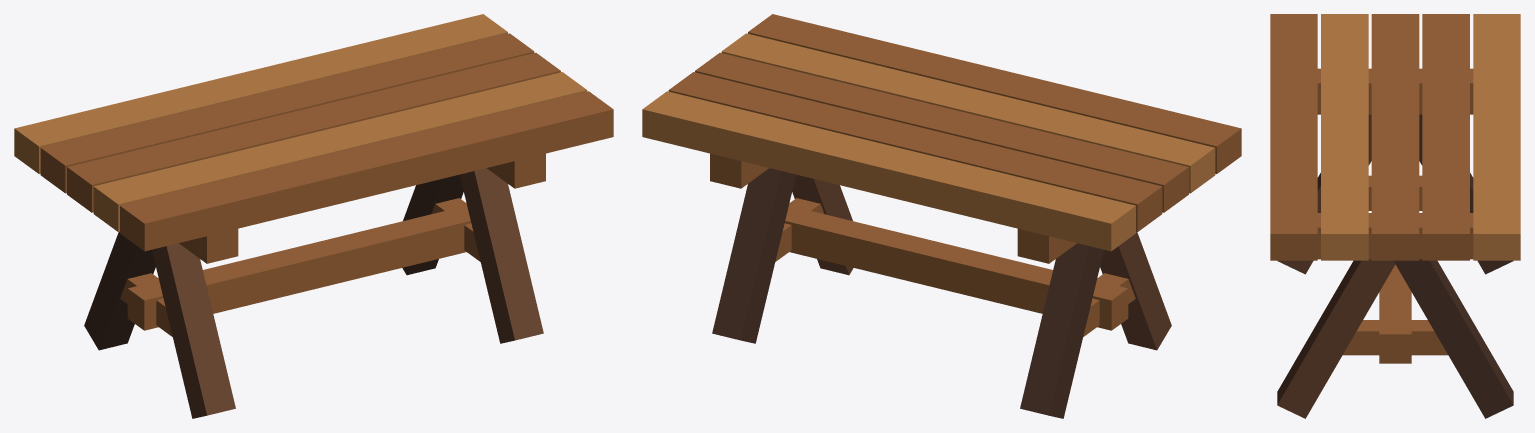
The model's file is 38_trestle_table.fbx.
3 views of the same model, side by side, from view 1: azimuth 30°, elevation 25°; view 2: azimuth 150°, elevation 25°; view 3: azimuth 270°, elevation 25° (orthographic). The views are drawn at different scales.
Visible parts, largest first — view 1: 38_trestle_table; view 2: 38_trestle_table; view 3: 38_trestle_table.
Boxes of the visible parts, x1,y1,x2,y2 form: 38_trestle_table: (14, 14, 613, 418); 38_trestle_table: (642, 14, 1241, 418); 38_trestle_table: (1270, 14, 1520, 418).
Bounding box in the file's own units: 1.95 × 0.893 × 0.938.
1 material, 1 textured.
